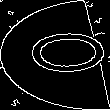O_E: (6, 30, 104, 80)
